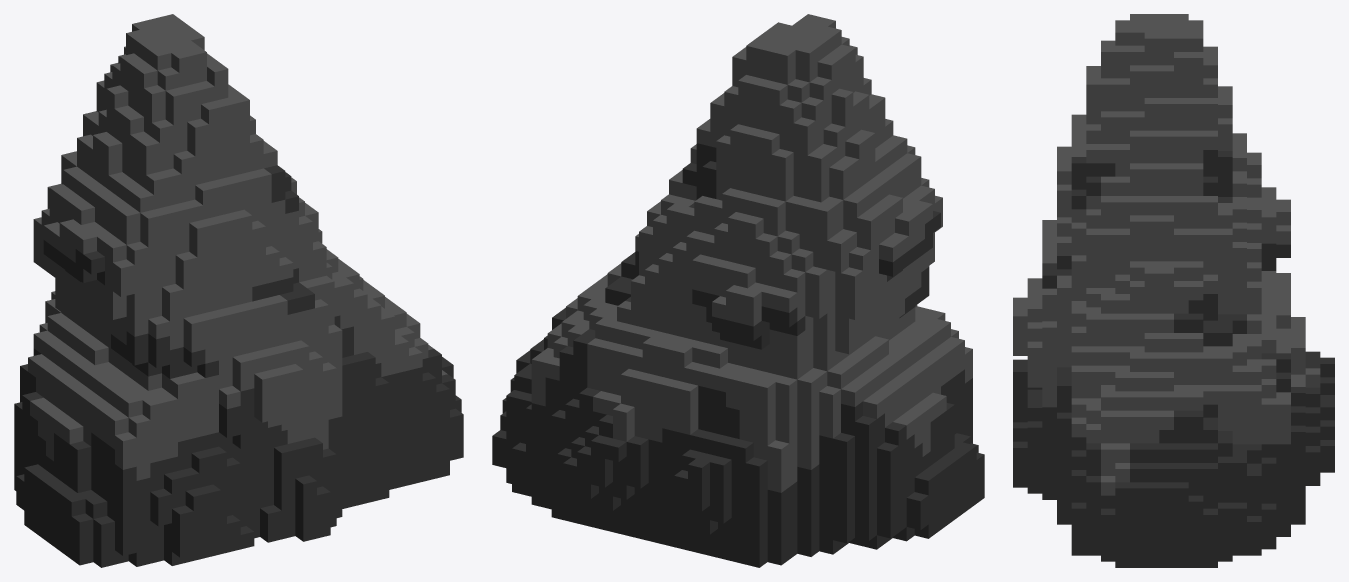
The model's file is nat_rock_large.obj.
3 renders of one model, left to right at view 1: azimuth 30°, elevation 25°; view 2: azimuth 150°, elevation 25°; view 3: azimuth 270°, elevation 25°, orthographic. The views are drawn at different scales.
Bounding box in the file's own units: 0.8609 × 0.95 × 0.6531.
